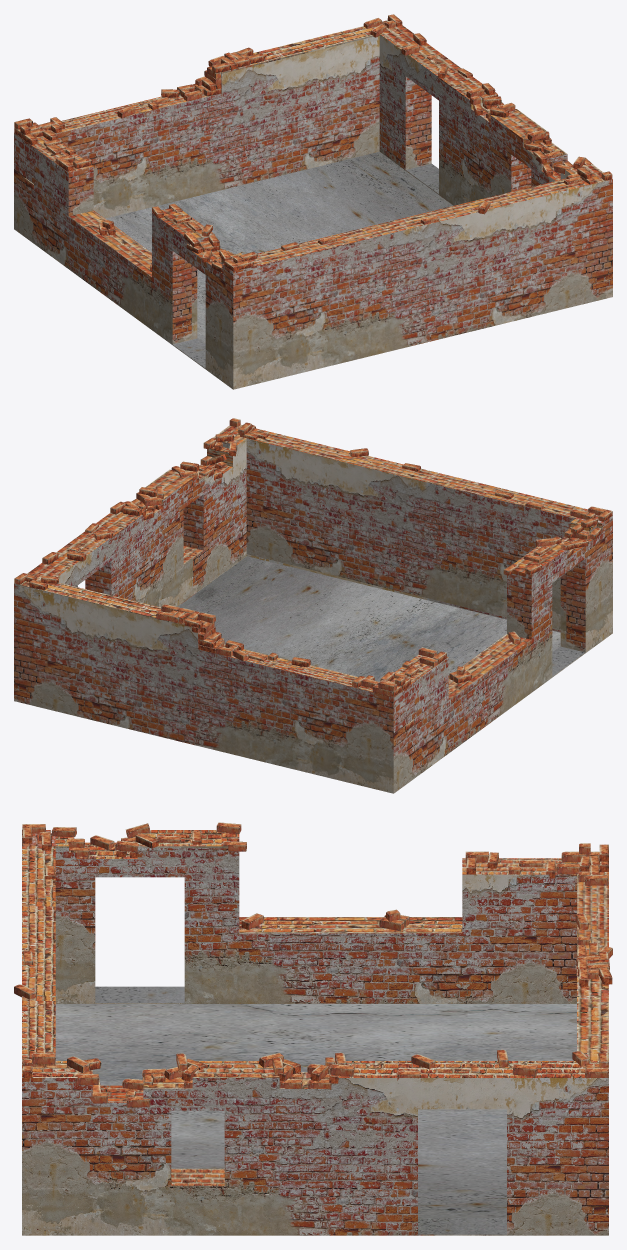
The model's file is Destroyed_house.fbx.
3 renders of one model, top to bottom at view 1: azimuth 30°, elevation 25°; view 2: azimuth 150°, elevation 25°; view 3: azimuth 270°, elevation 25°, orthographic. The views are drawn at different scales.
Parts seen in each view (by area): view 1: Destr_dom_001; view 2: Destr_dom_001; view 3: Destr_dom_001.
Boxes of the visible parts, box(x1,y1,x2,y2) form: Destr_dom_001: box(14, 14, 612, 389); Destr_dom_001: box(14, 418, 612, 793); Destr_dom_001: box(14, 822, 612, 1235).
Bounding box in the file's own units: 912 × 284 × 919.
3 materials, 3 textured.
